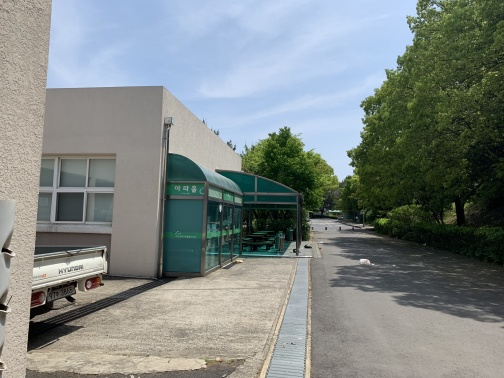Ara Hall: (53, 97, 299, 286)
